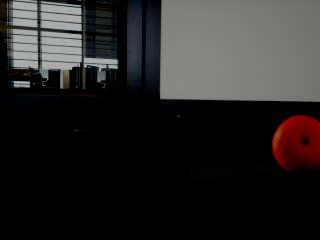Orange: (270, 114, 320, 176)
